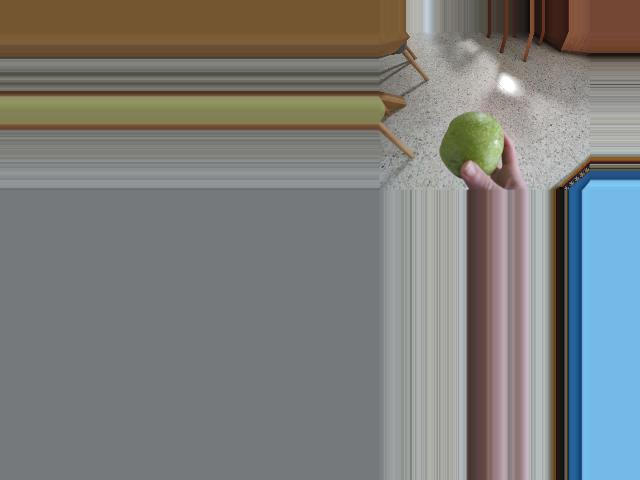apple: (435, 109, 507, 180)
